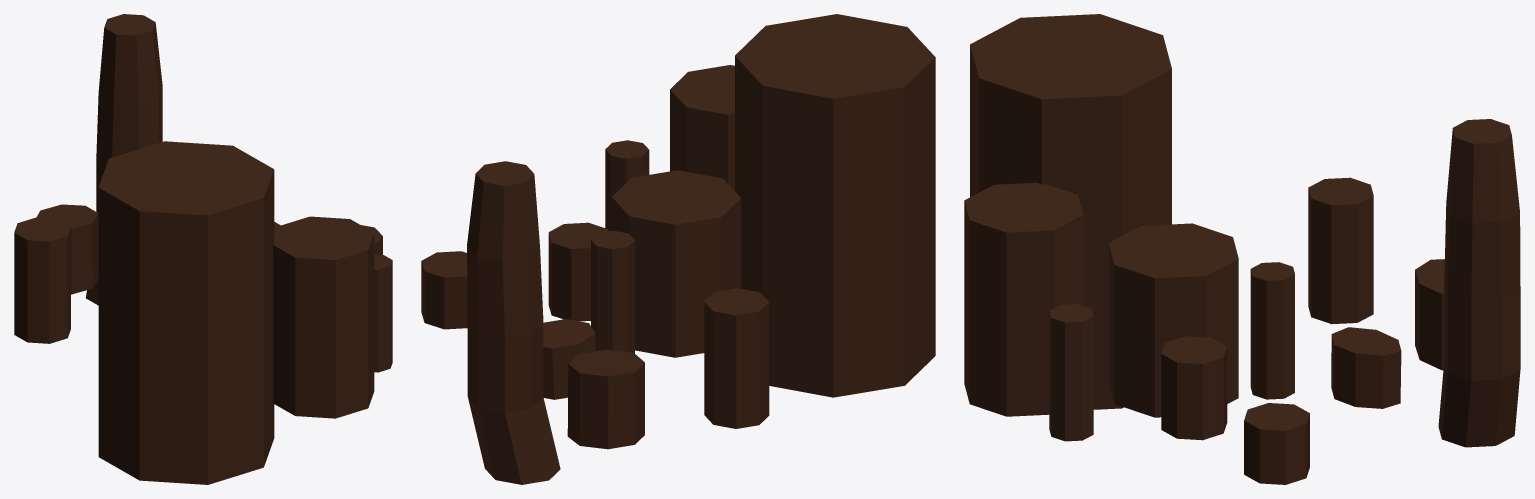
The model's file is kamienie_4.fbx.
3 renders of one model, left to right at view 1: azimuth 30°, elevation 25°; view 2: azimuth 150°, elevation 25°; view 3: azimuth 270°, elevation 25°, orthographic. The views are drawn at different scales.
Visible parts, largest first — view 1: Cylinder.002; view 2: Cylinder.002; view 3: Cylinder.002.
Part boxes in pixels (left/top/right/bottom): Cylinder.002: left=14, top=14, right=392, bottom=484; Cylinder.002: left=421, top=14, right=935, bottom=484; Cylinder.002: left=964, top=14, right=1520, bottom=484.
Bounding box in the file's own units: 2218 × 1610 × 2584.
